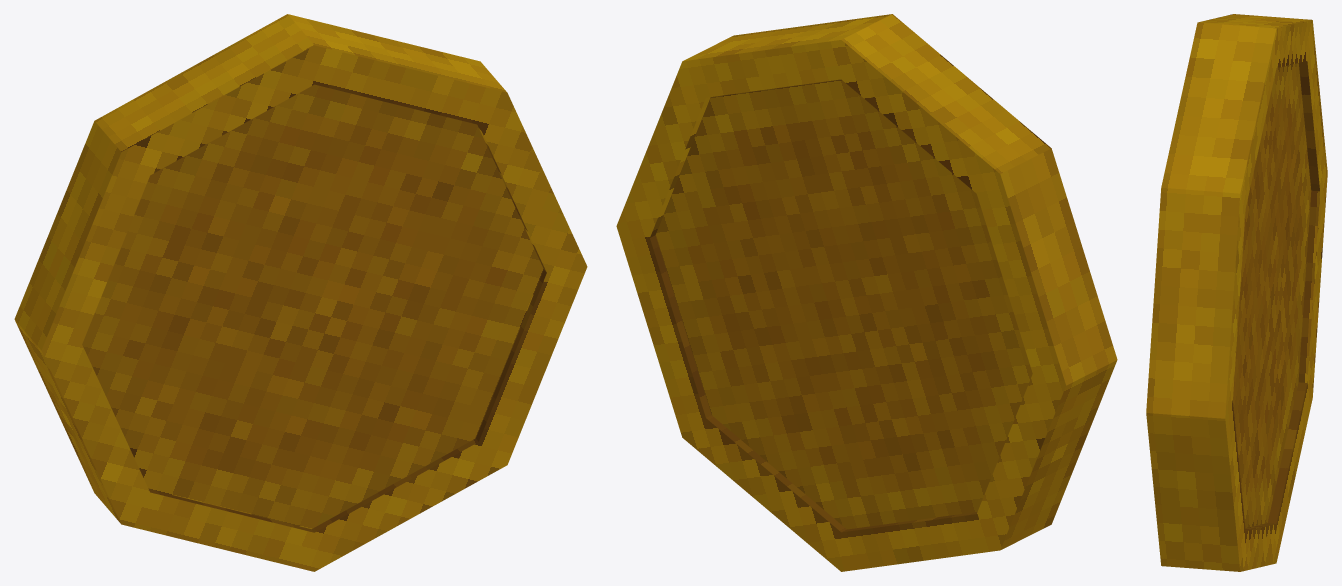
The model's file is Coin.gltf.
The picture shows the model from 3 angles, left to right: view 1: azimuth 30°, elevation 25°; view 2: azimuth 150°, elevation 25°; view 3: azimuth 270°, elevation 25°; orthographic projection.
Parts seen in each view (by area): view 1: Coin; view 2: Coin; view 3: Coin.
Part boxes in pixels (bbox=[...]): Coin: bbox=[14, 14, 587, 571]; Coin: bbox=[616, 14, 1117, 571]; Coin: bbox=[1146, 14, 1327, 571].
Bounding box in the file's own units: 0.9098 × 0.9022 × 0.2775.
Materials: 1 (1 with a texture image).
